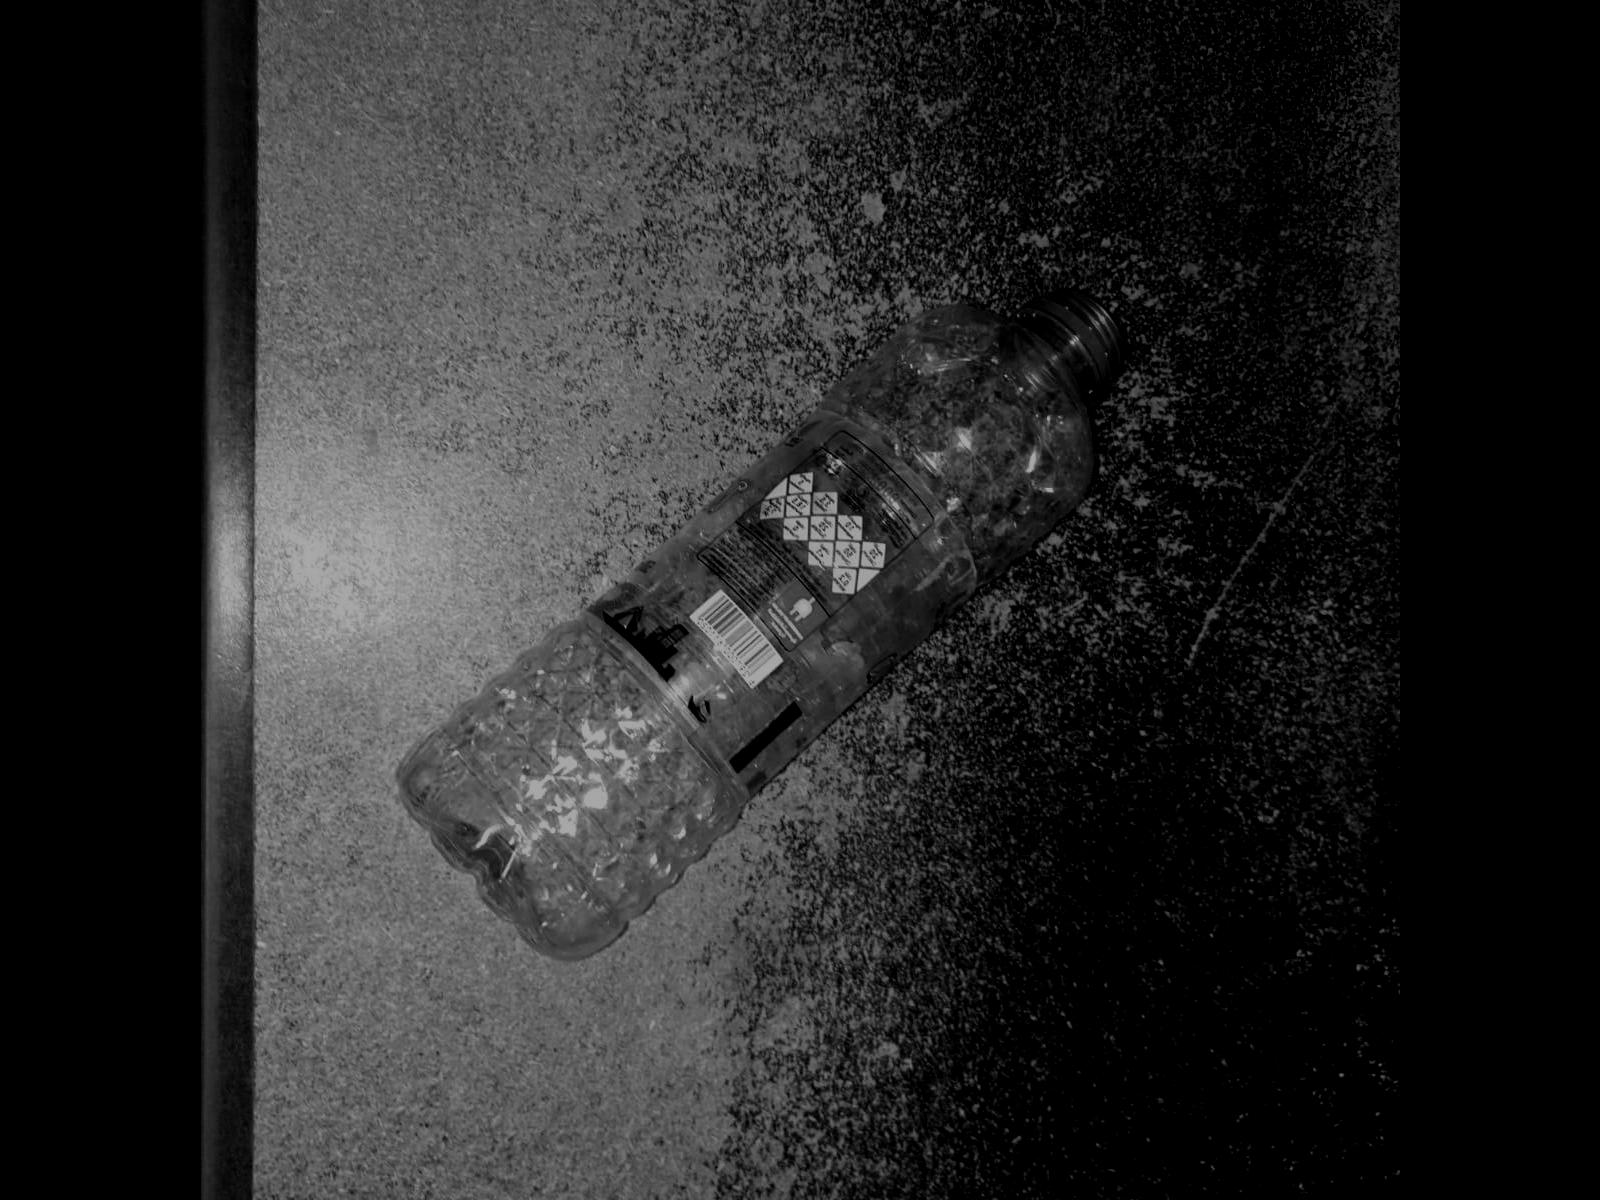bottle: (385, 282, 1139, 999)
